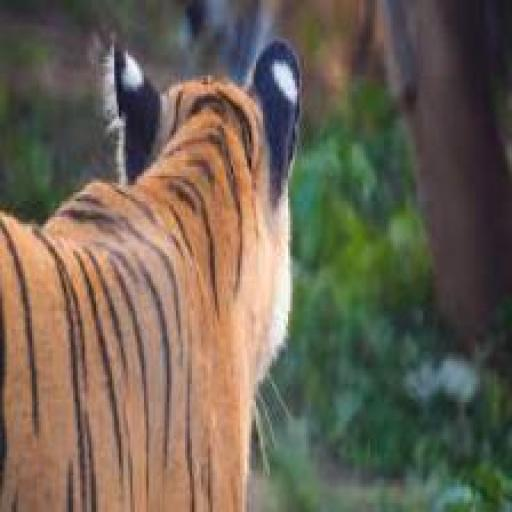Tiger: (0, 18, 309, 512)
